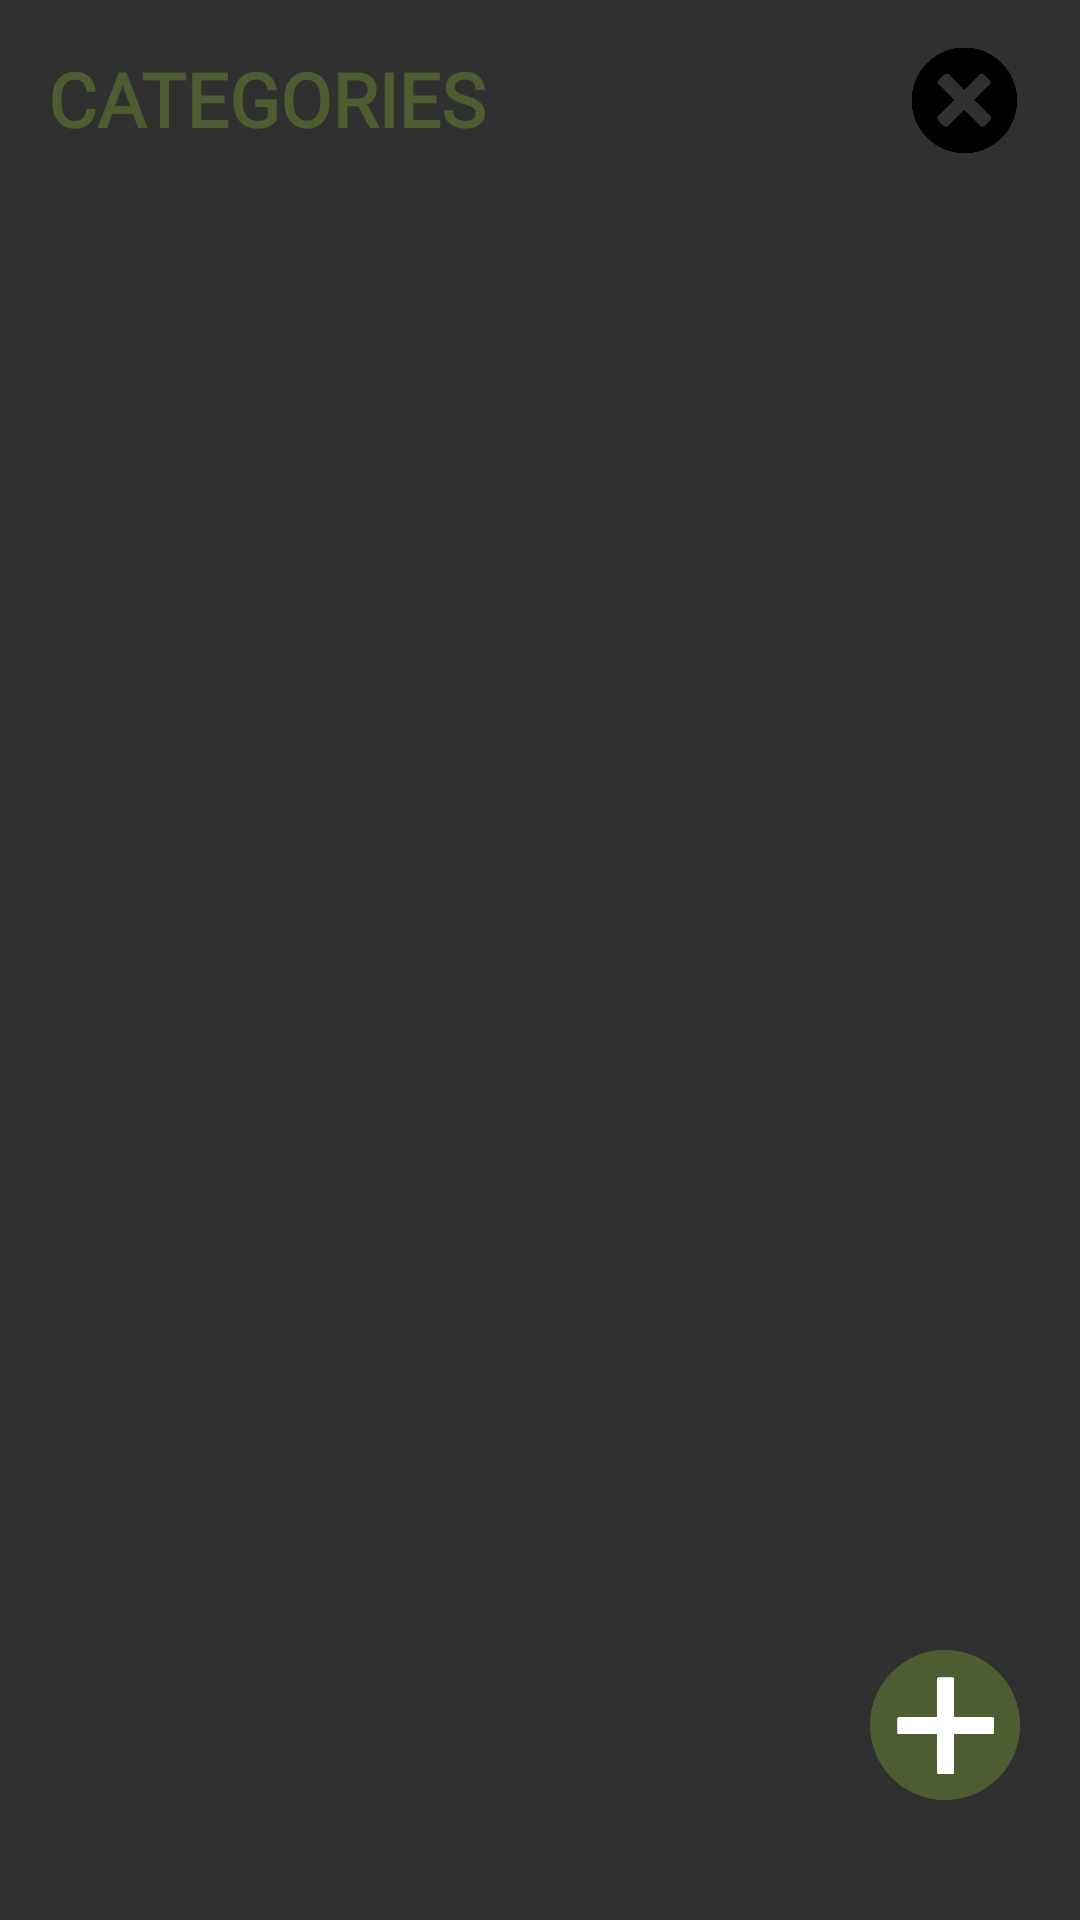

Locate icon controls on the screen. Image size 1080px×1920px, boxes as box(x1, y1, x2, y2).
exit: box(912, 48, 1017, 153)
